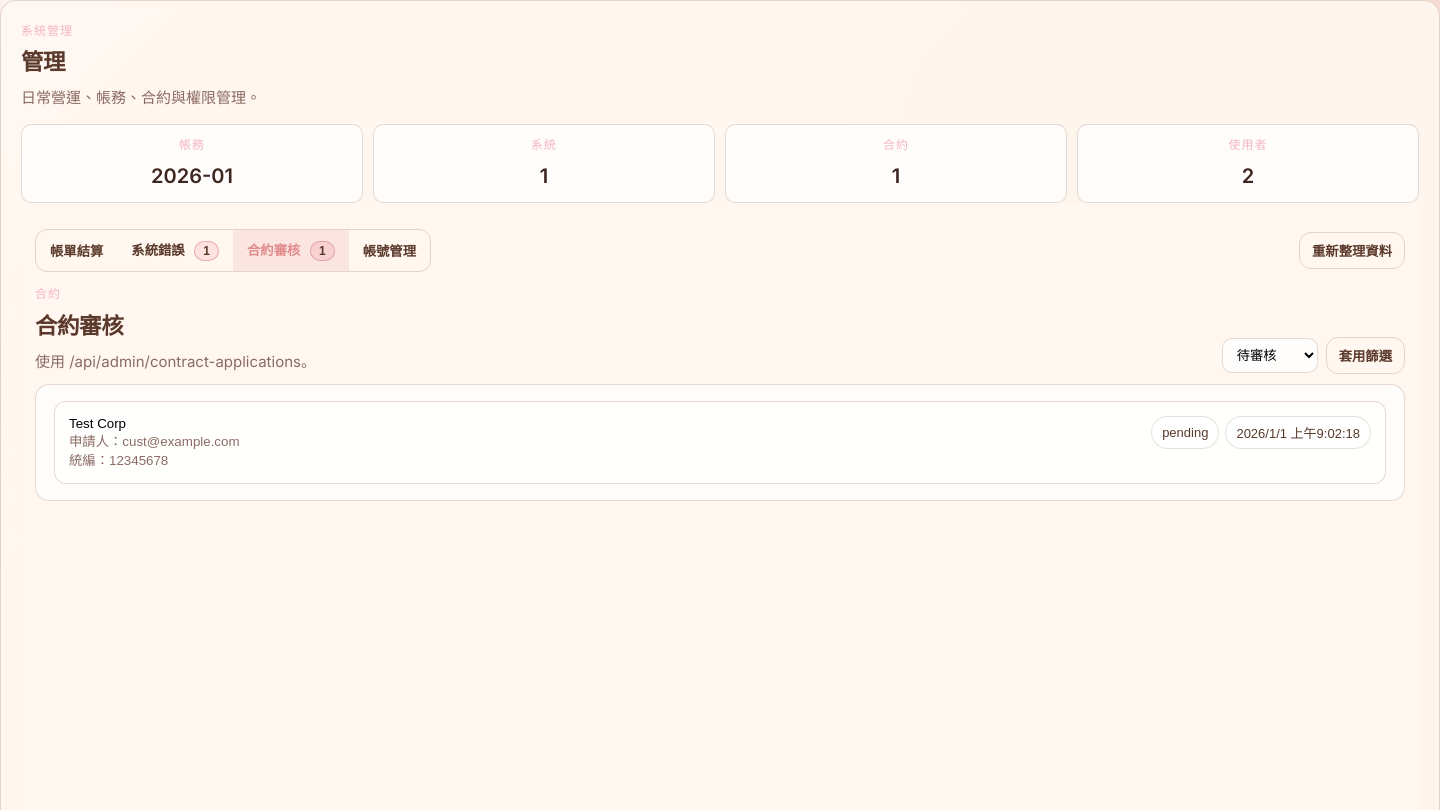
AdminView › Tab 切換 › 應該能切換到帳單 tab
Click the button "帳單結算": click(77, 251) x1=36 y1=230 x2=117 y2=271
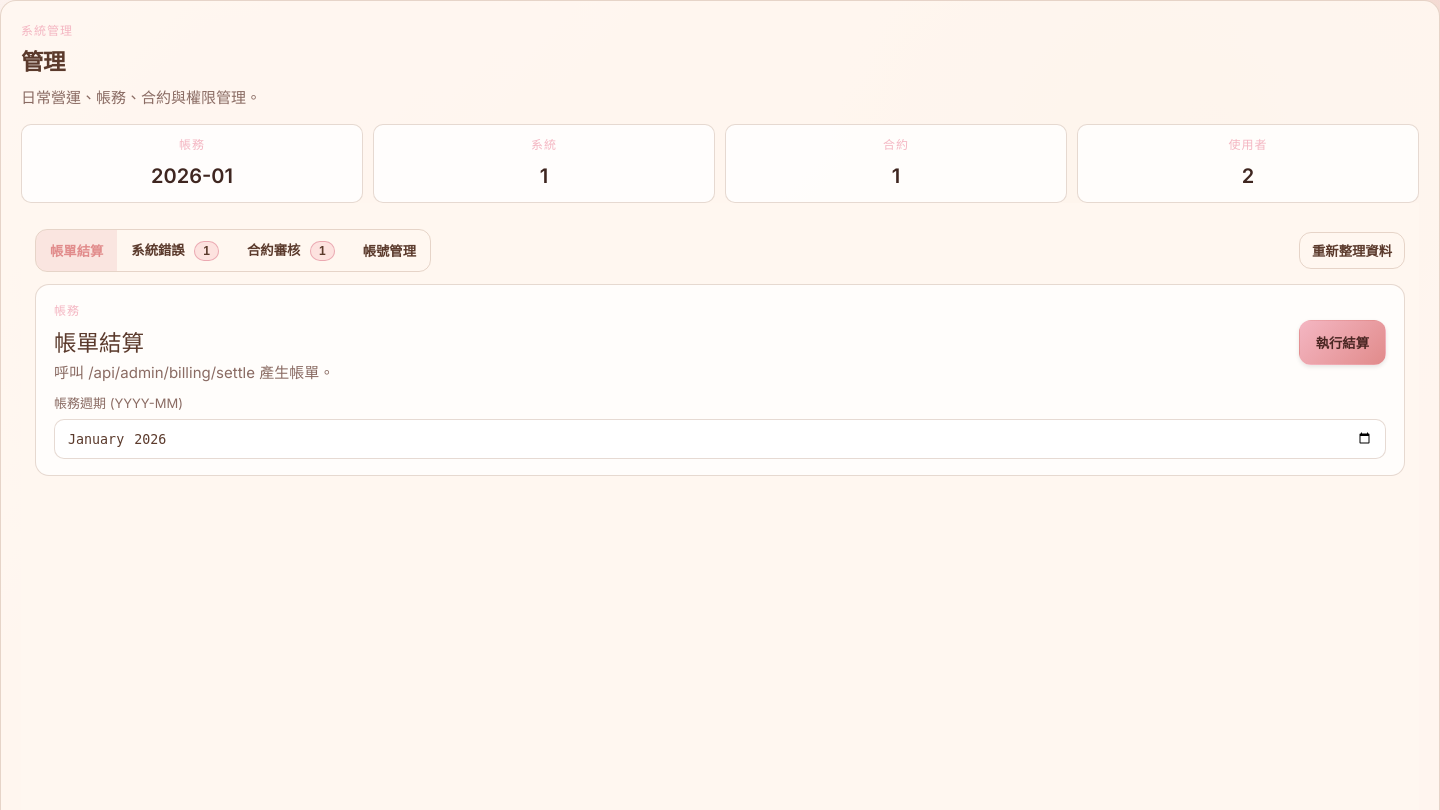
Check: the field labelled "帳務週期 (YYYY-MM)" is shown, box x1=54 y1=419 x2=1386 y2=459
